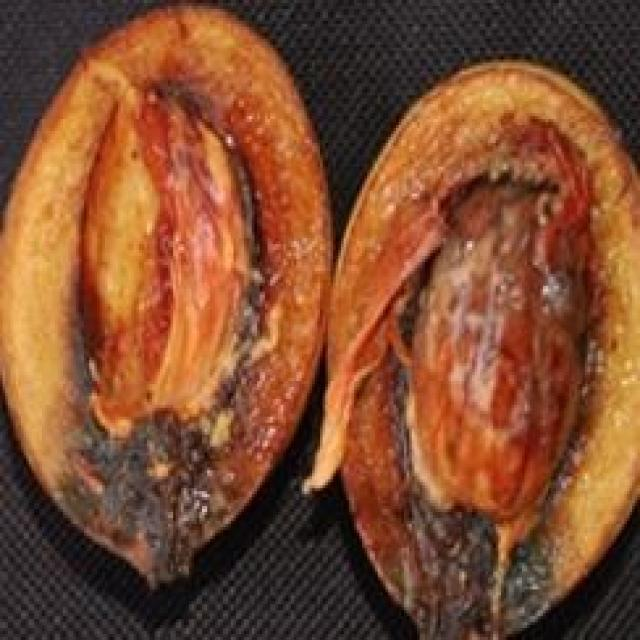damaged: (0, 3, 637, 637)
